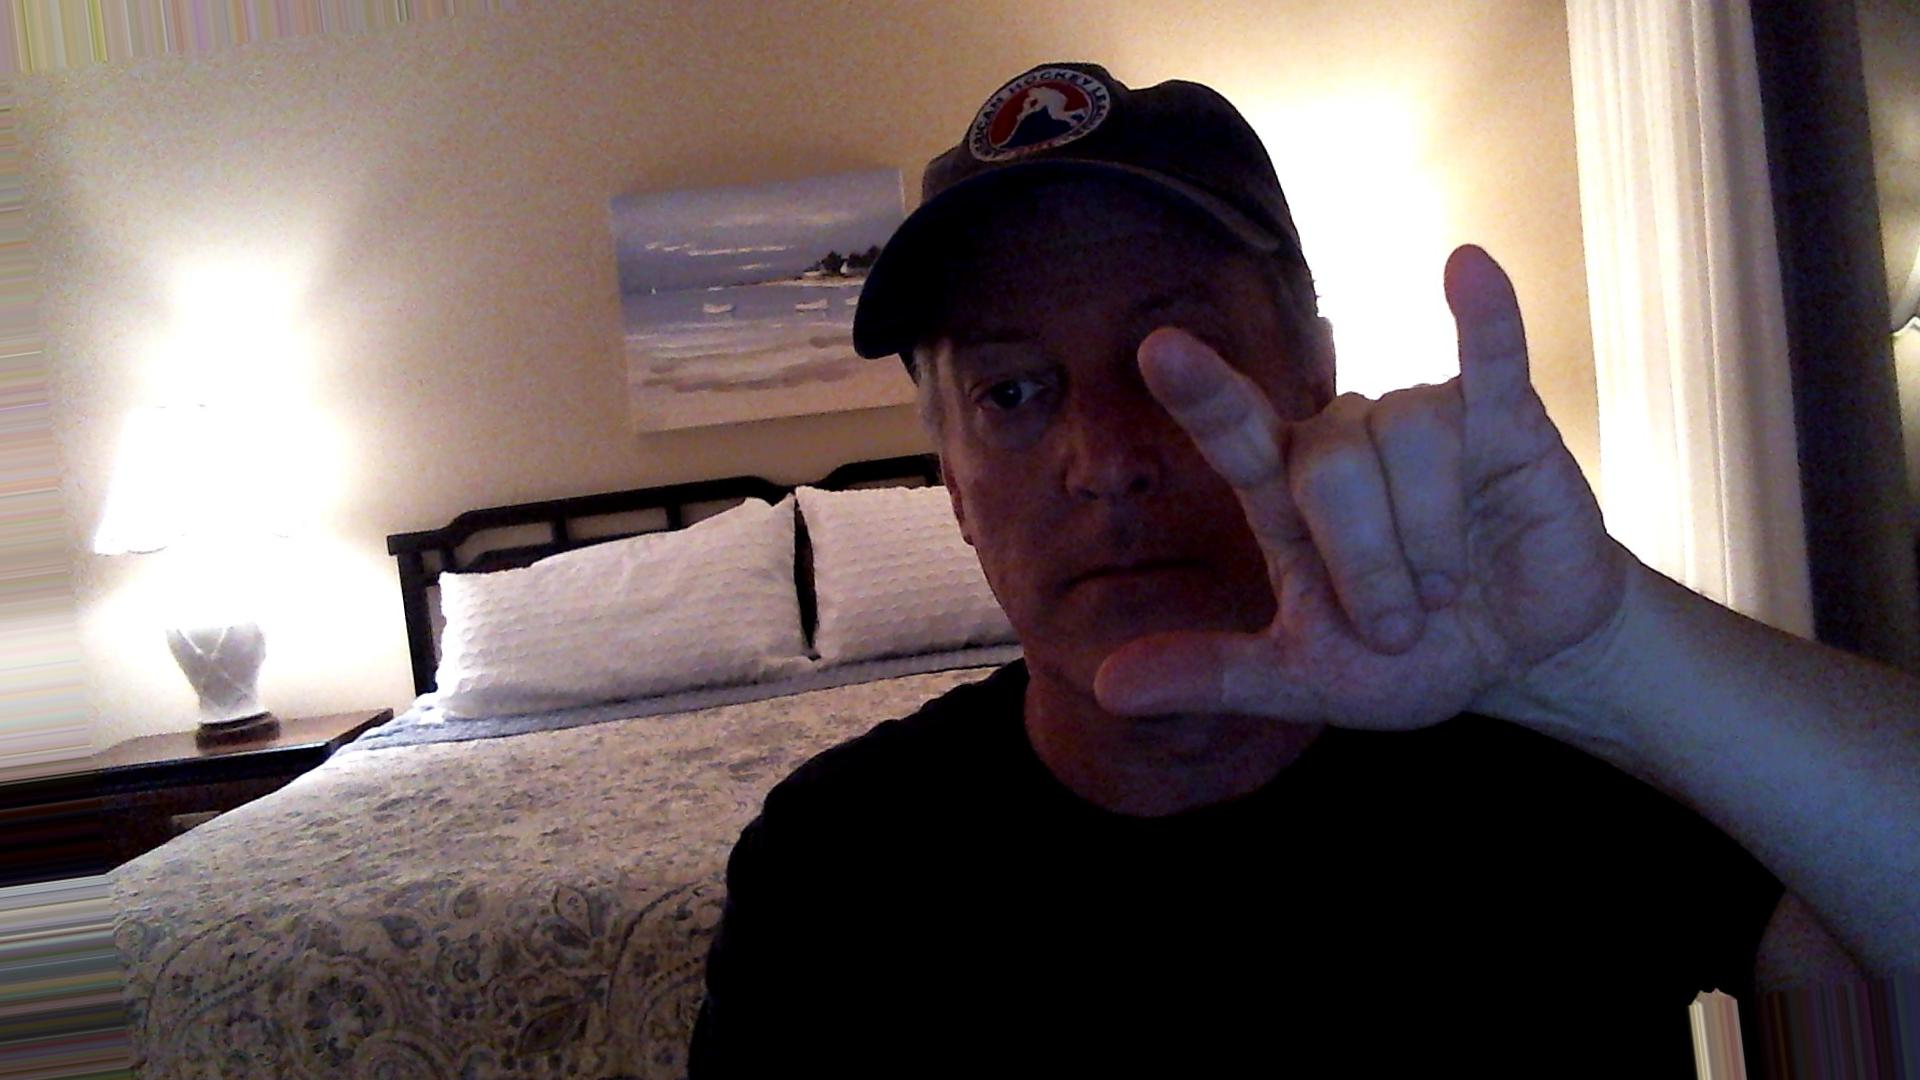I Love You: (1083, 232, 1639, 752)
